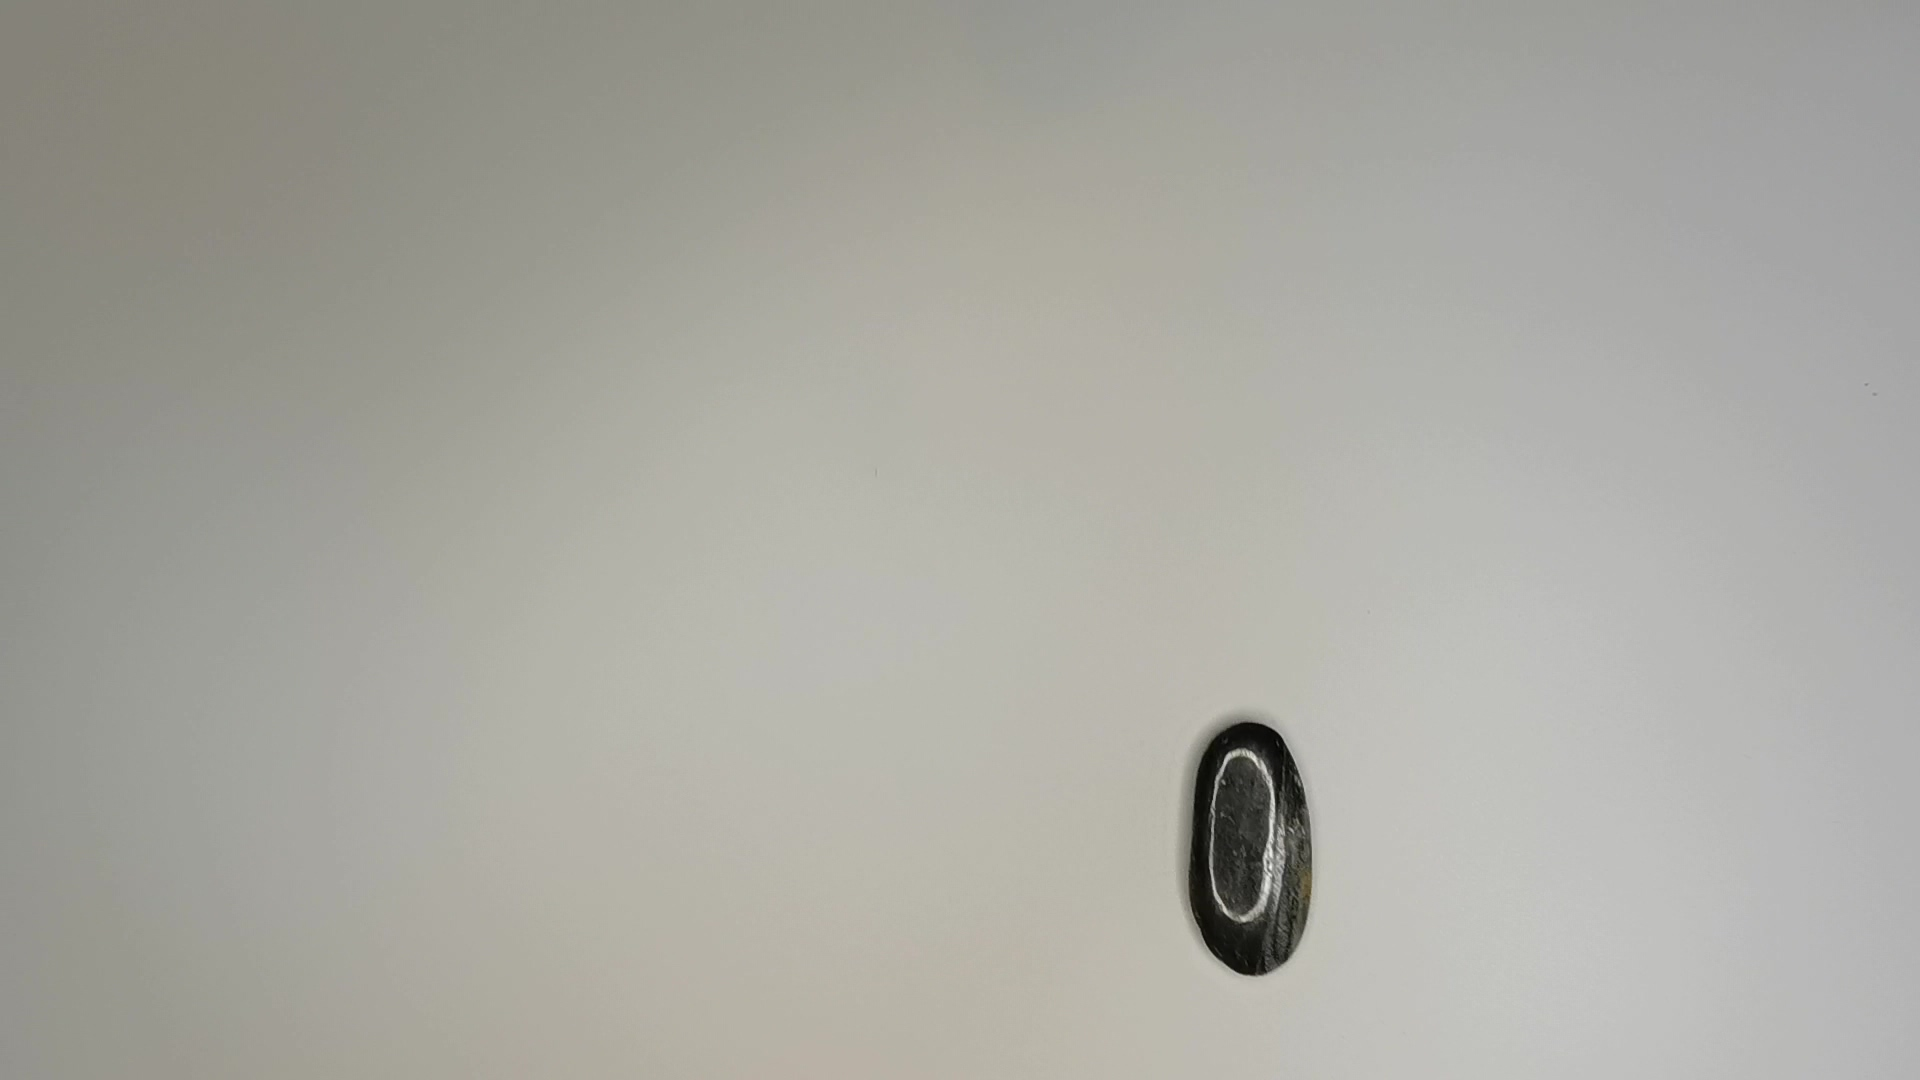ceramic: (1184, 713, 1323, 985)
